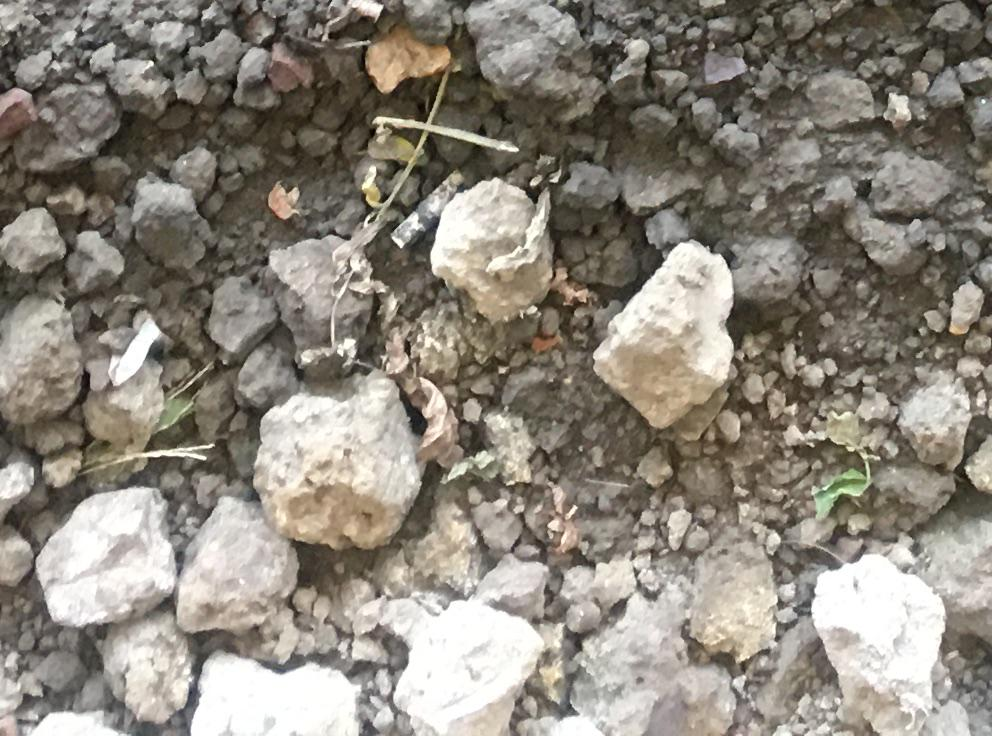block: (249, 368, 423, 552), (591, 238, 732, 433), (809, 554, 946, 736), (387, 599, 544, 736), (31, 487, 179, 628), (427, 176, 557, 328), (172, 495, 305, 636), (262, 239, 372, 373), (1, 291, 80, 428)
